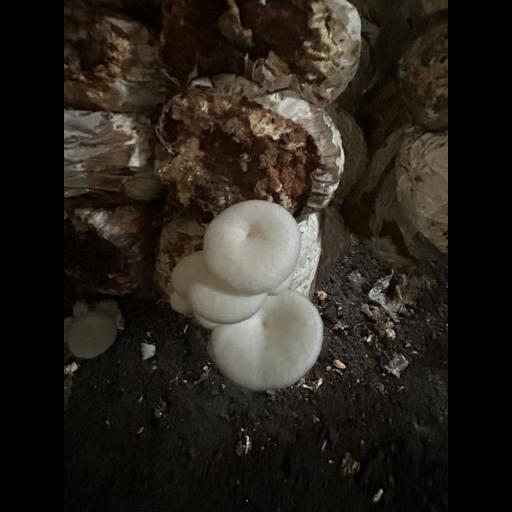White Oyster Mushroom: (167, 197, 325, 390), (64, 299, 120, 360)
